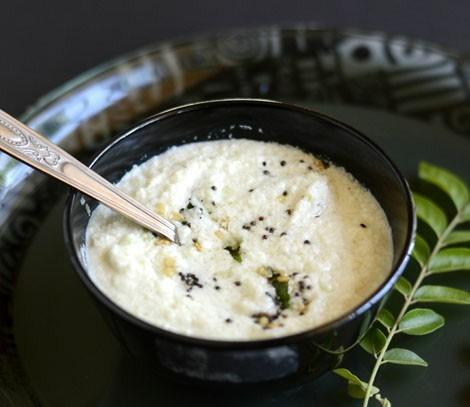CoconutChutney: (88, 137, 392, 341)
